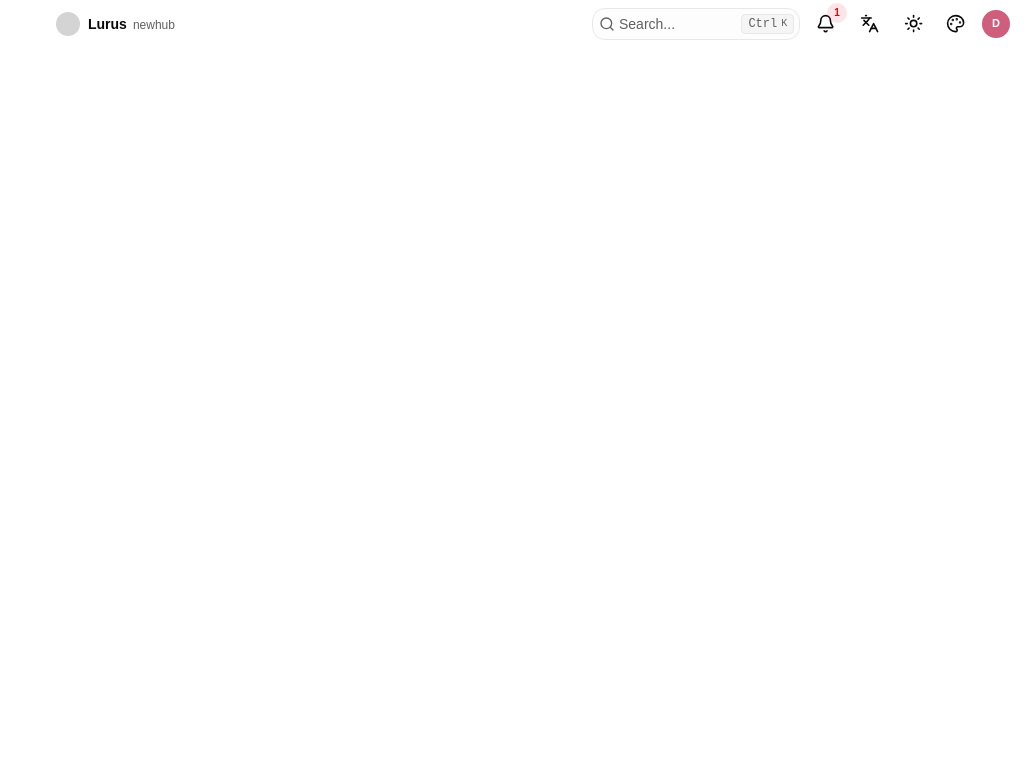
Test: notifications › stays quiet when this notice was already read
The width and height of the screenshot is (1024, 768).
Click the button named "Notifications": (826,24) [808,6,844,42]
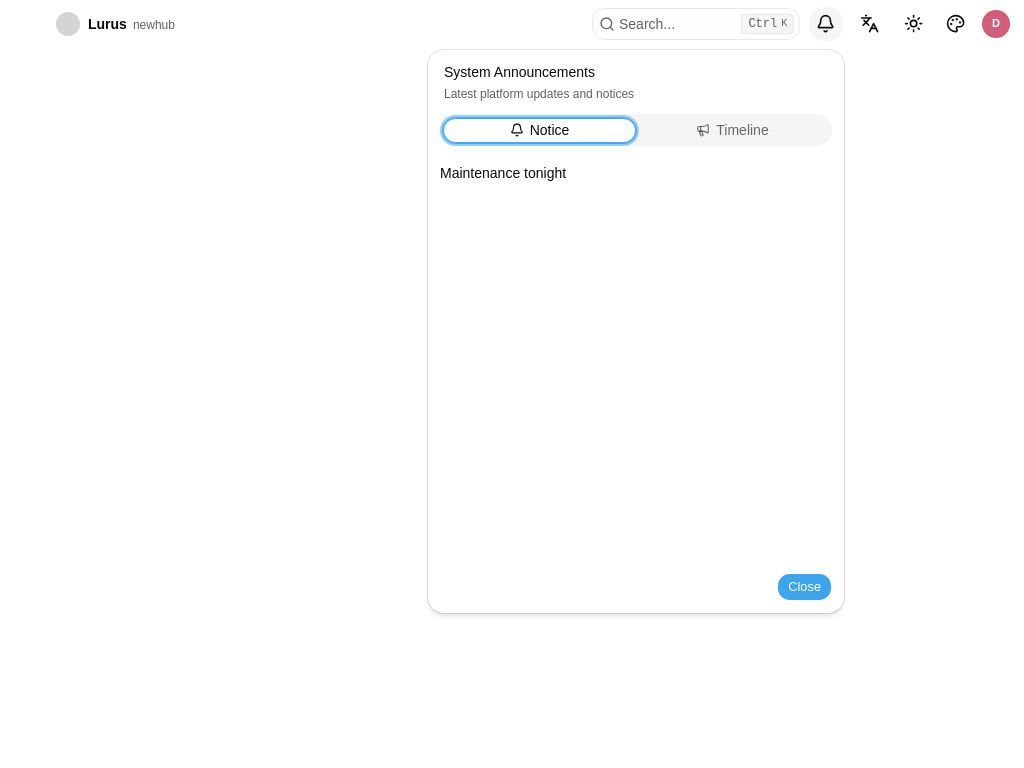
Now the text "Maintenance tonight" is shown, box [440,165,566,181]
